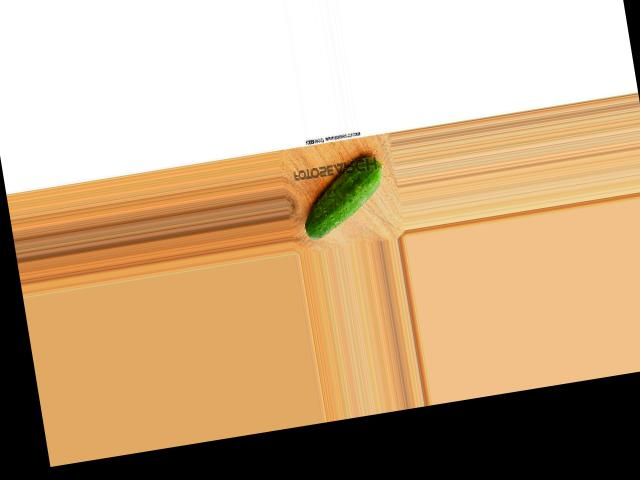cucumber: (295, 153, 393, 240)
